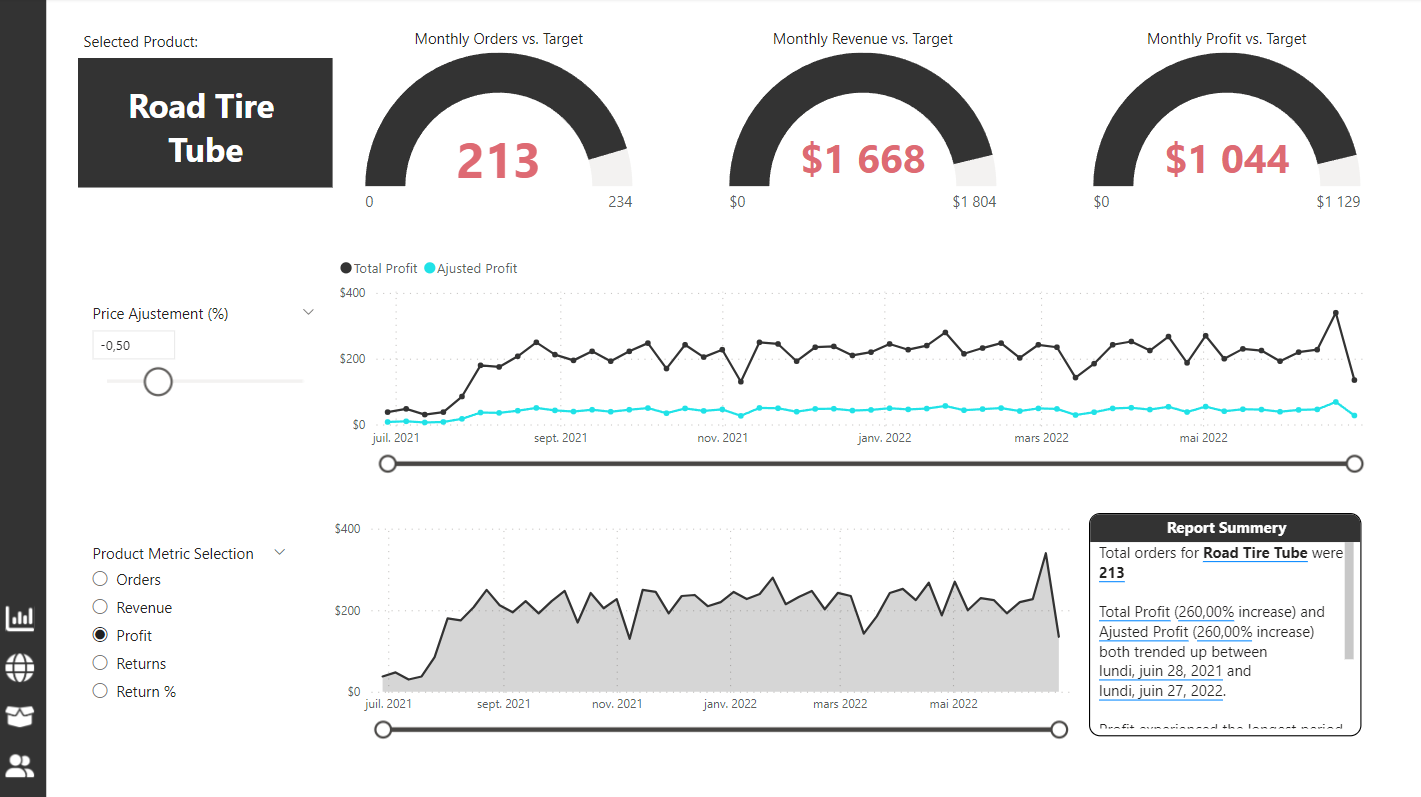

Layout of this report page (visuals, bound fields, positions):
{"tool":"powerbi","page":{"name":"Product Detail","canvas":[1280,720],"ordinal":2},"visuals":[{"type":"shape","box":[0,0,45,720],"z":0},{"type":"actionButton","box":[4.6,538.9,33.7,33.7],"z":0,"group":"g1"},{"type":"gauge","title":"Monthly Orders vs. Target","fields":{"Y":["Measure Table.Total Orders"],"MaxValue":["Measure Table.Order Target"]},"box":[316.3,26.9,268.4,173.6],"z":1000},{"type":"actionButton","box":[4.6,582.7,33.7,33.7],"z":1000,"group":"g1"},{"type":"gauge","title":"Monthly Revenue vs. Target","fields":{"Y":["Measure Table.Total Revenue"],"MaxValue":["Measure Table.Revenue Target"]},"box":[642,26.6,268.4,173.6],"z":2000},{"type":"actionButton","box":[4.6,626.4,33.7,33.7],"z":2000,"group":"g1"},{"type":"gauge","title":"Monthly Profit vs. Target","fields":{"Y":["Measure Table.Total Profit"],"MaxValue":["Measure Table.Profit Target"]},"box":[967.7,26.6,268.4,173.6],"z":3000},{"type":"actionButton","box":[4.6,670.2,33.7,33.7],"z":3000,"group":"g1"},{"type":"lineChart","title":"Profit Trending","fields":{"Category":["Calendar Lookup.Date Hierarchy.Start of Year","Calendar Lookup.Date Hierarchy.Start of Month","Calendar Lookup.Date Hierarchy.Start of Week","Calendar Lookup.Date Hierarchy.Date"],"Y":["Measure Table.Total Profit","Measure Table.Ajusted Profit"]},"box":[302.3,222.5,940.8,205.5],"z":4000},{"type":"areaChart","title":"Return Trending","fields":{"Y":["Measure Table.Total Profit"],"Category":["Calendar Lookup.Date Hierarchy.Start of Year","Calendar Lookup.Date Hierarchy.Start of Month","Calendar Lookup.Date Hierarchy.Start of Week","Calendar Lookup.Date Hierarchy.Date"]},"box":[298.2,461.2,680.6,205.1],"z":5000},{"type":"card","fields":{"Values":["Min(Product Lookup.ProductName)"]},"box":[73.8,53.9,228.5,115.7],"z":6000},{"type":"textbox","box":[73.8,24.9,224.5,28.9],"z":7000},{"type":"group","id":"g1","title":"Navigation Buttens","box":[4.6,538.9,33.7,164.9],"z":8000},{"type":"slicer","fields":{"Values":["Price Ajustement (%).Price Ajustement (%)"]},"box":[73.8,268.4,224.5,159.6],"z":9000},{"type":"slicer","fields":{"Values":["Product Metric Selection.Product Metric Selection"]},"box":[73.8,483.9,198.5,159.6],"z":10000},{"type":"textbox","title":"Report Summery","box":[978.8,461.2,244.5,199.7],"z":11000}]}

Visuals, with their boxes on the page's 1280x720 design canvas (x1, y1, x2, y2). These are canvas units, not pixel positions in the 1421x797 screenshot, which may show the page scaled, cropped or inside an application window:
shape: {"x1": 0, "y1": 0, "x2": 45, "y2": 720}
actionButton: {"x1": 5, "y1": 539, "x2": 38, "y2": 573}
"Monthly Orders vs. Target" gauge: {"x1": 316, "y1": 27, "x2": 585, "y2": 200}
actionButton: {"x1": 5, "y1": 583, "x2": 38, "y2": 616}
"Monthly Revenue vs. Target" gauge: {"x1": 642, "y1": 27, "x2": 910, "y2": 200}
actionButton: {"x1": 5, "y1": 626, "x2": 38, "y2": 660}
"Monthly Profit vs. Target" gauge: {"x1": 968, "y1": 27, "x2": 1236, "y2": 200}
actionButton: {"x1": 5, "y1": 670, "x2": 38, "y2": 704}
"Profit Trending" lineChart: {"x1": 302, "y1": 222, "x2": 1243, "y2": 428}
"Return Trending" areaChart: {"x1": 298, "y1": 461, "x2": 979, "y2": 666}
card - Min(Product Lookup.ProductName): {"x1": 74, "y1": 54, "x2": 302, "y2": 170}
textbox: {"x1": 74, "y1": 25, "x2": 298, "y2": 54}
"Navigation Buttens" group: {"x1": 5, "y1": 539, "x2": 38, "y2": 704}
slicer - Price Ajustement (%).Price Ajustement (%): {"x1": 74, "y1": 268, "x2": 298, "y2": 428}
slicer - Product Metric Selection.Product Metric Selection: {"x1": 74, "y1": 484, "x2": 272, "y2": 644}
"Report Summery" textbox: {"x1": 979, "y1": 461, "x2": 1223, "y2": 661}
